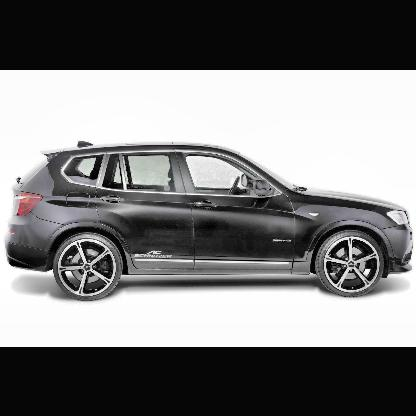BMW X3 SUV 2012: (4, 140, 414, 302)
